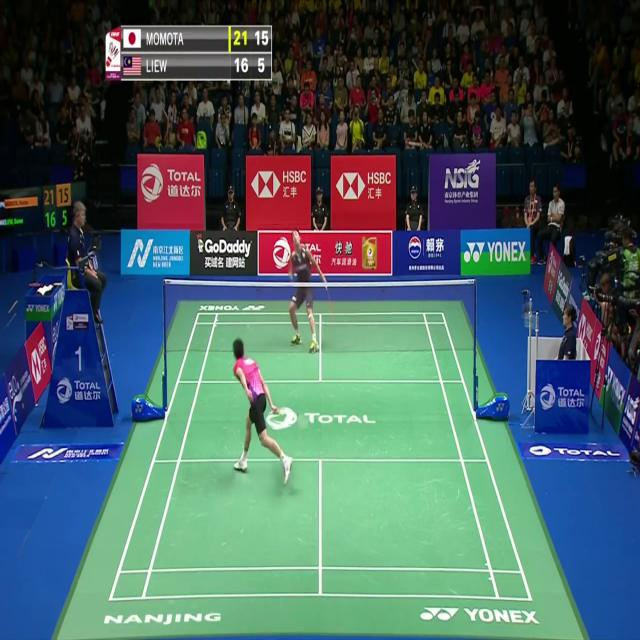Shuttlecock: (225, 78, 231, 89)
